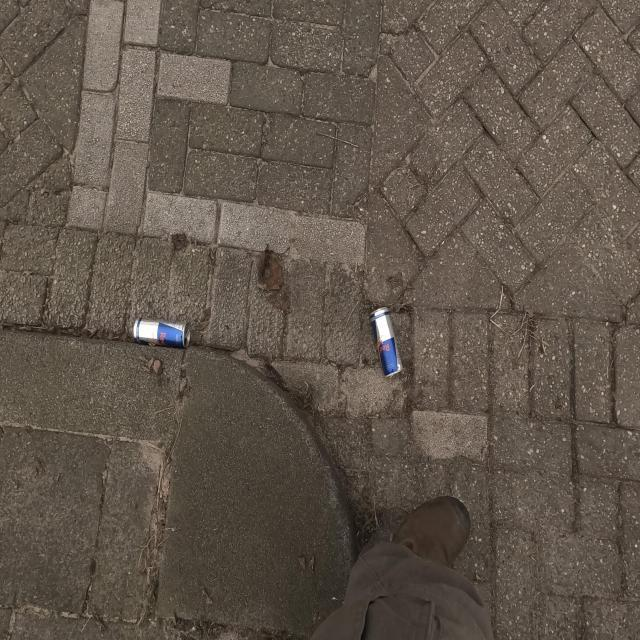Can-Metal: (372, 304, 401, 374), (134, 314, 194, 346)
